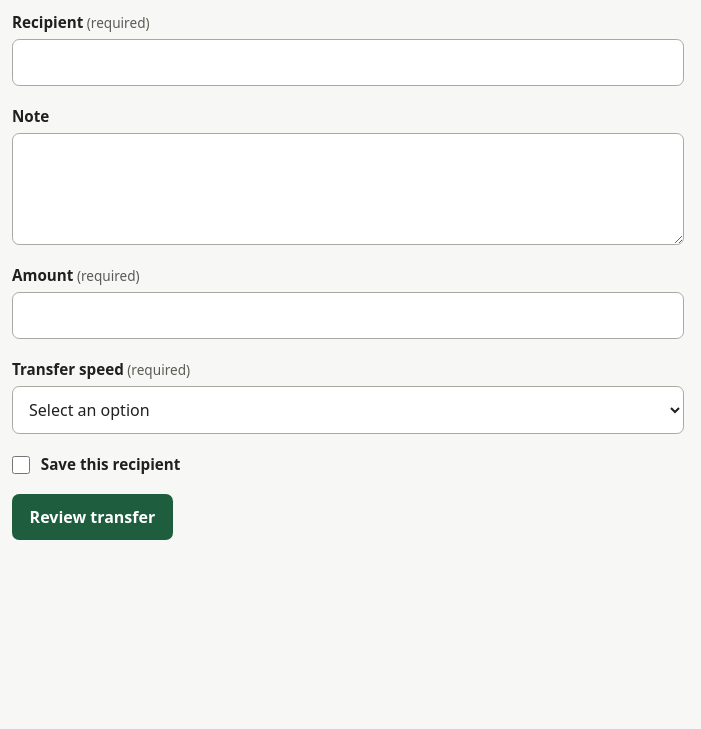
ConfirmationGate required policy › keeps invalid submissions outside review and execution
This screenshot has width=701, height=729.
Click the button "Review transfer".
click(92, 517)  # box [12,494,173,540]
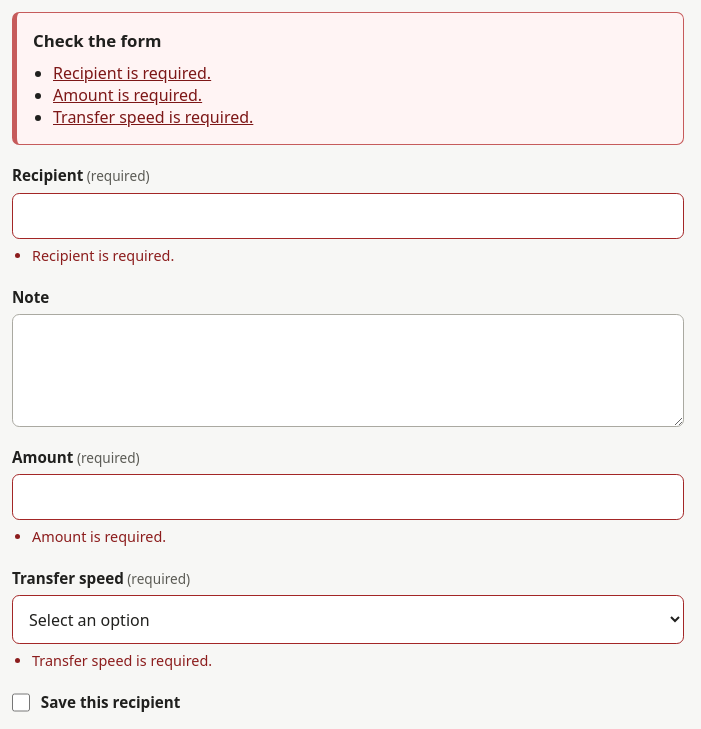
Result: the message shows "Check the form" at [33,29,162,52]
